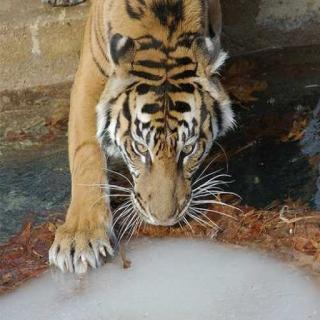Tiger: (37, 0, 298, 274)
